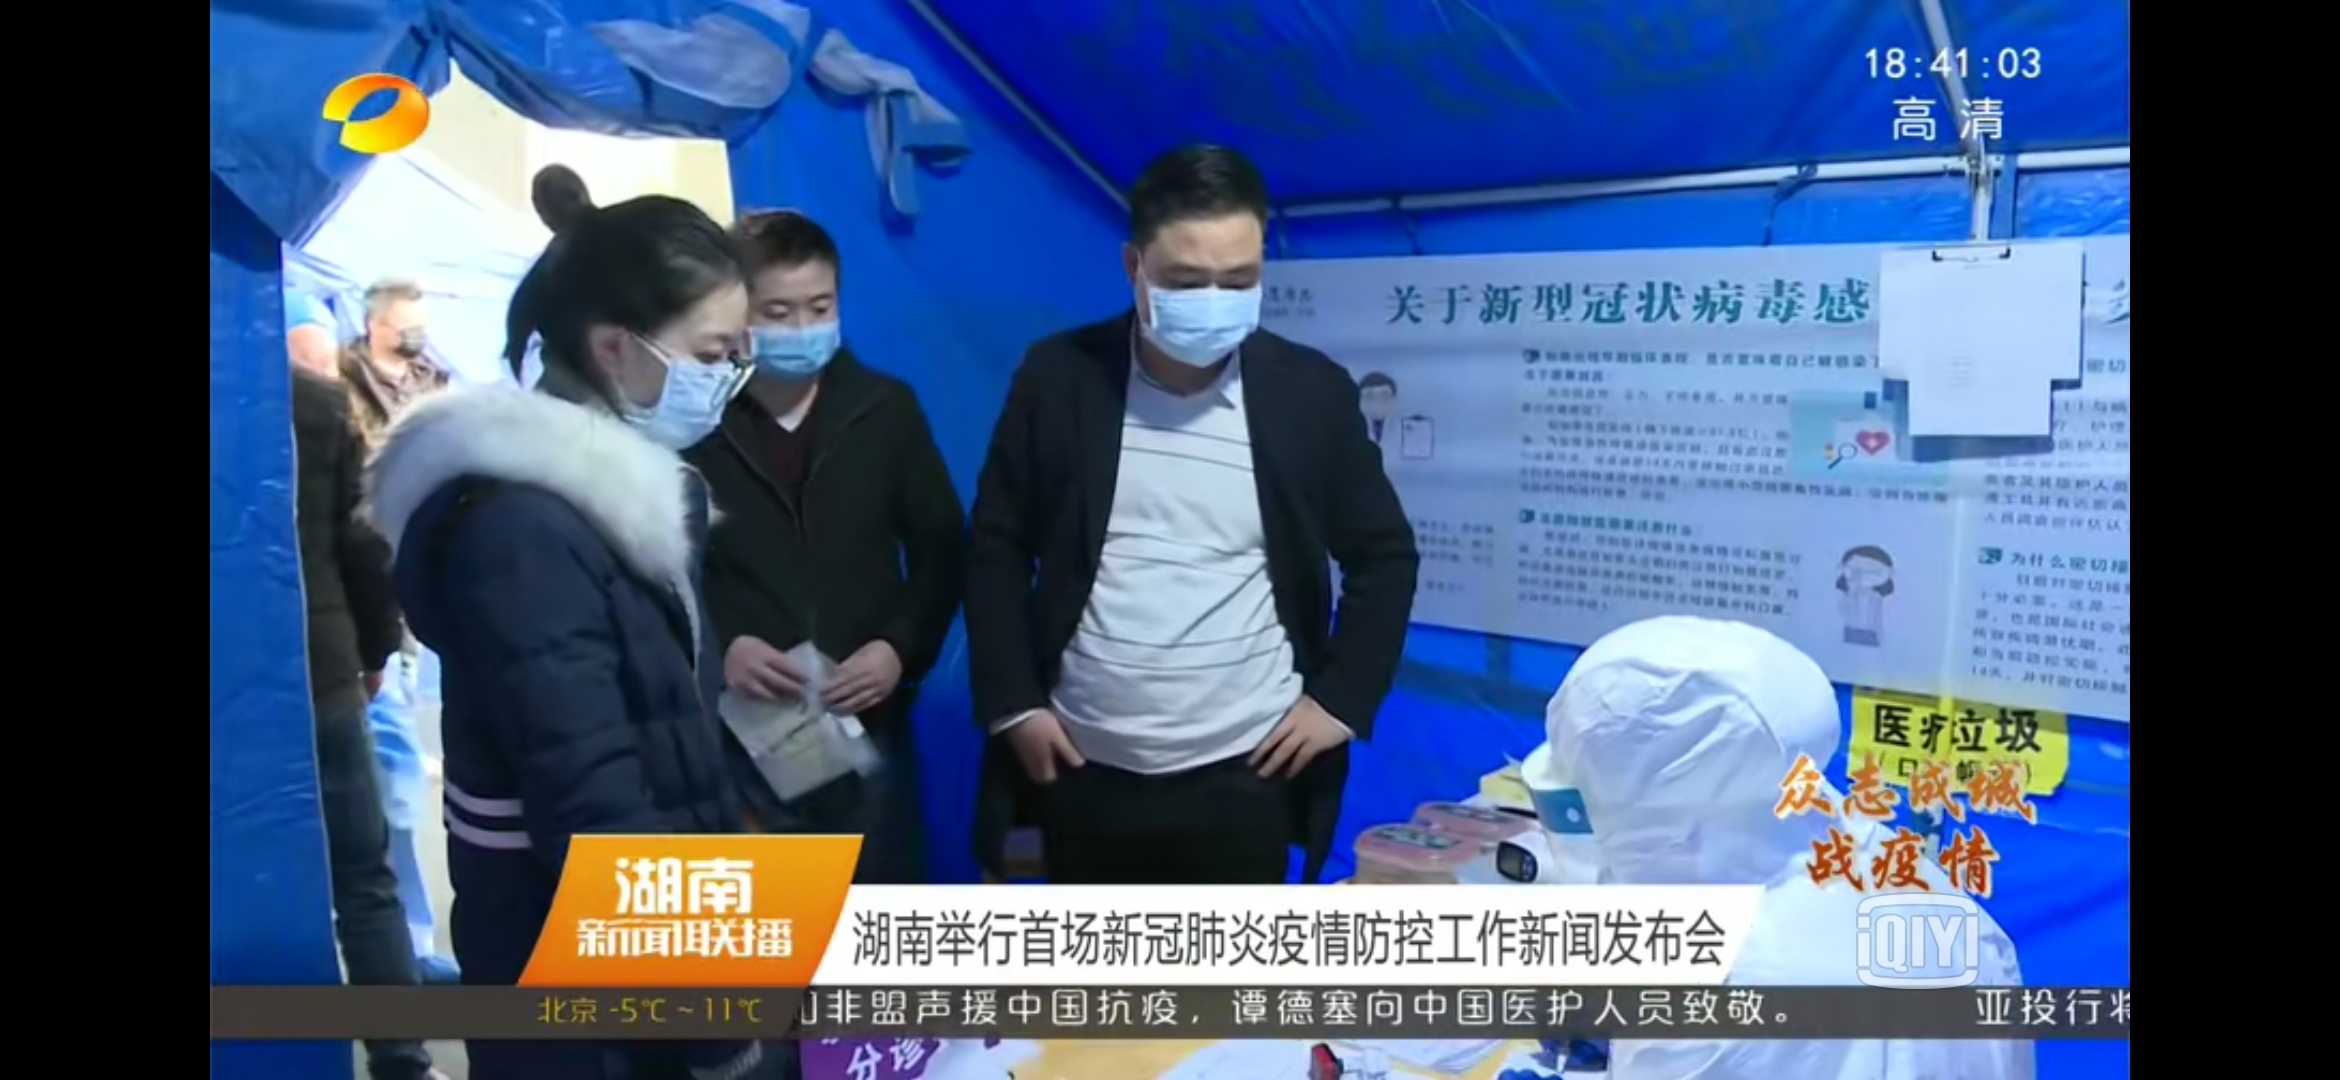correctlyWear: (591, 294, 742, 453), (1127, 230, 1268, 377), (749, 283, 851, 398), (378, 303, 427, 358)
